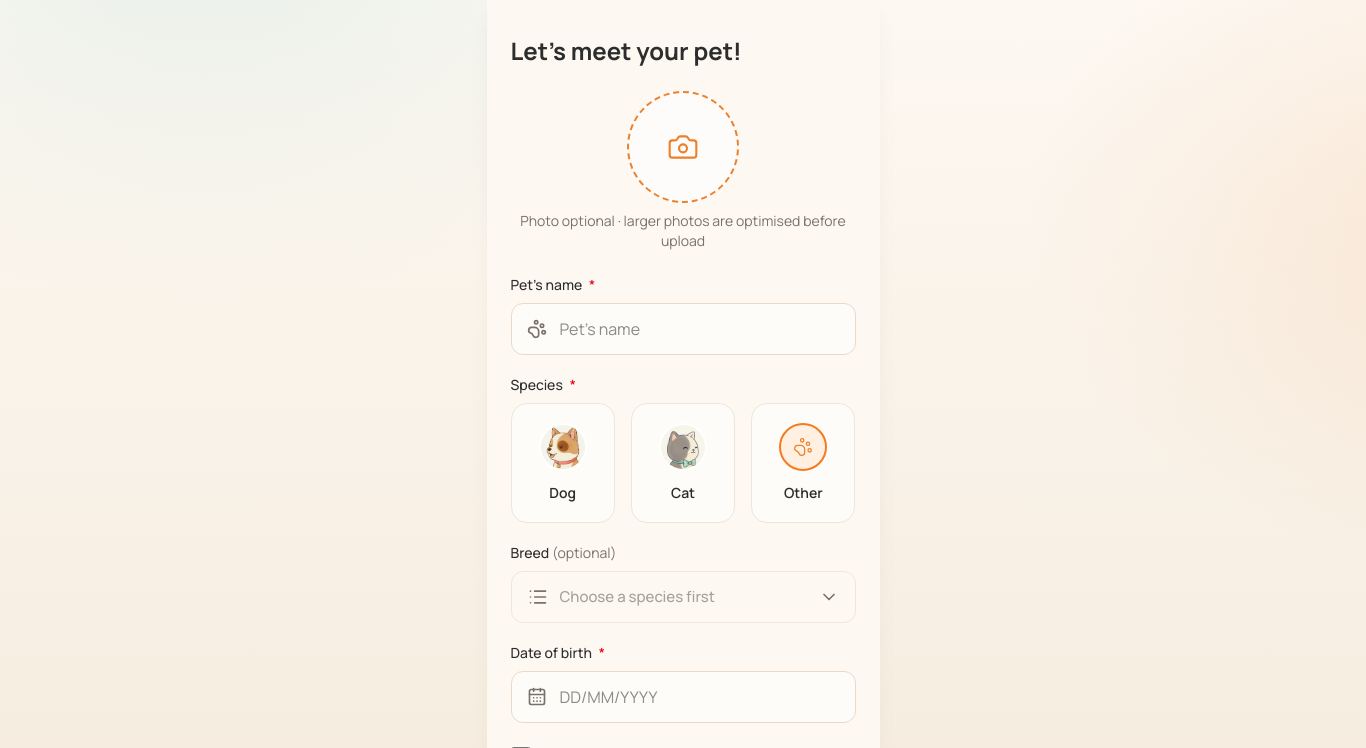
Scenario: FirstPetForm › shows a custom breed field when Others is selected
The image size is (1366, 748).
Click the button "Dog". click: (563, 463)
box: [510,403,615,523]
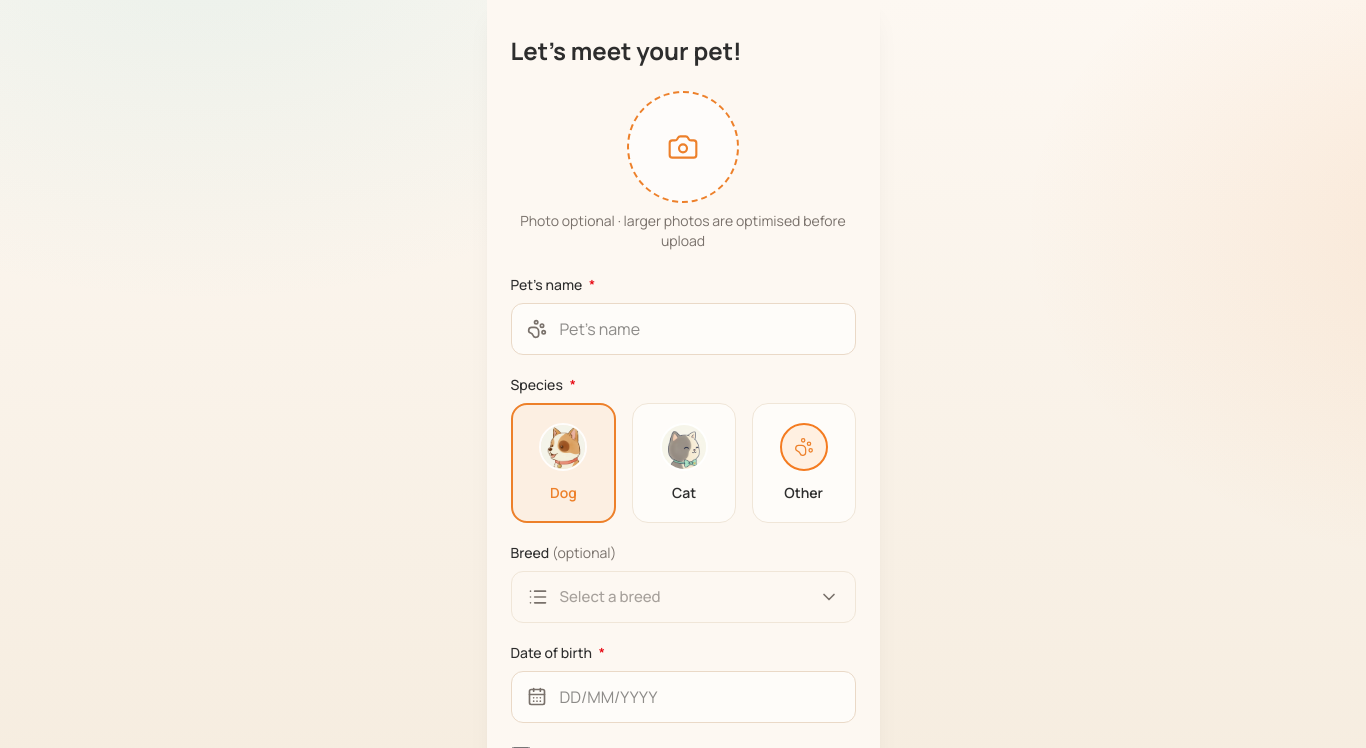
Click the button "Select a breed". click: (610, 596)
box: [510,571,856,623]
(page scrolled)
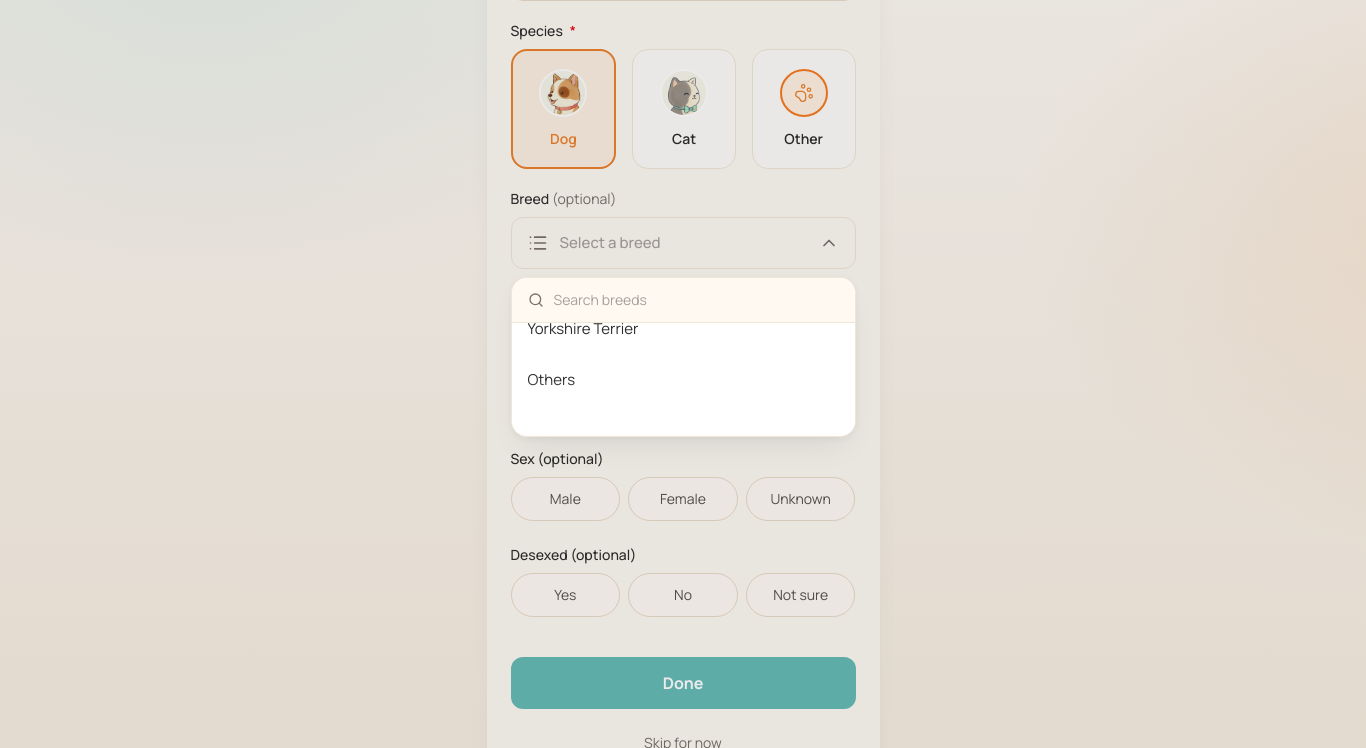
Click the option "Others". click: (551, 379)
box: [512,354,854,405]
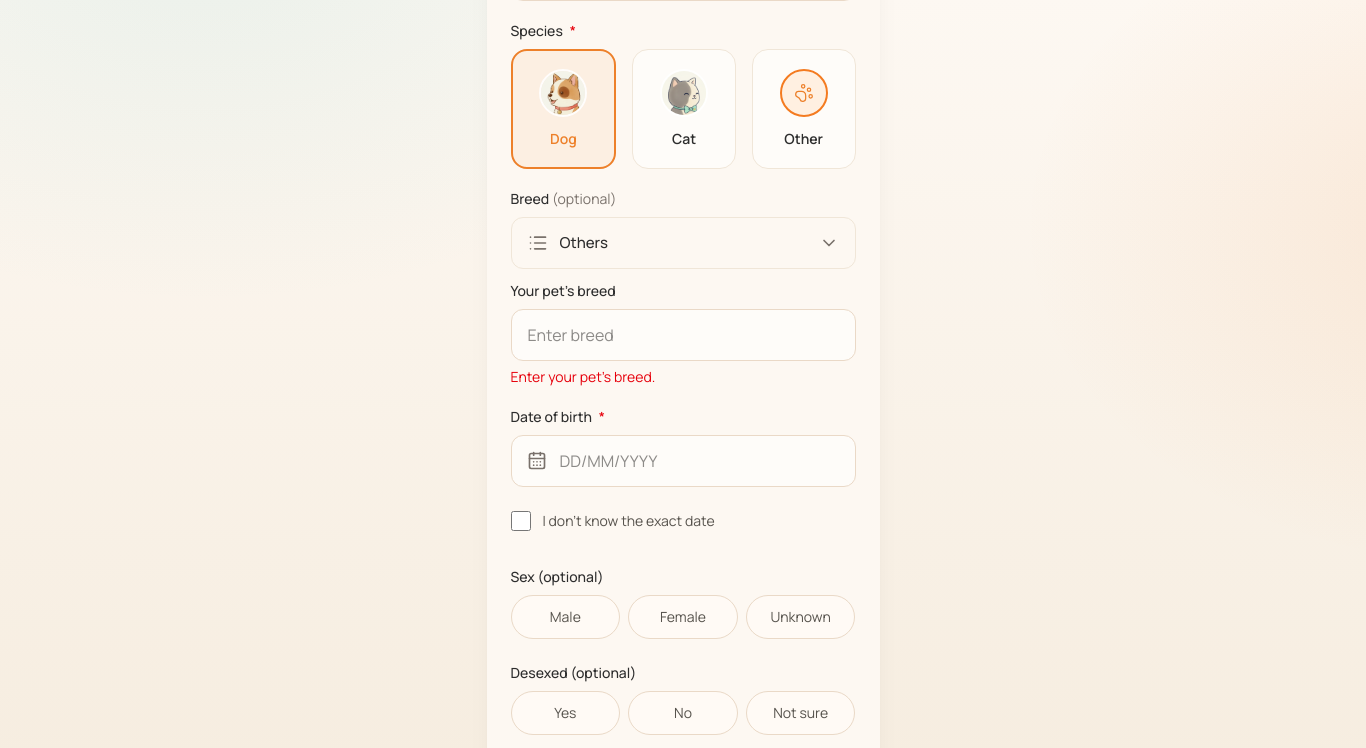
Expected: the field labelled "Your pet’s breed" is shown, [510,309,856,361]
Expected: the text "Others" is shown, [560,232,608,253]
